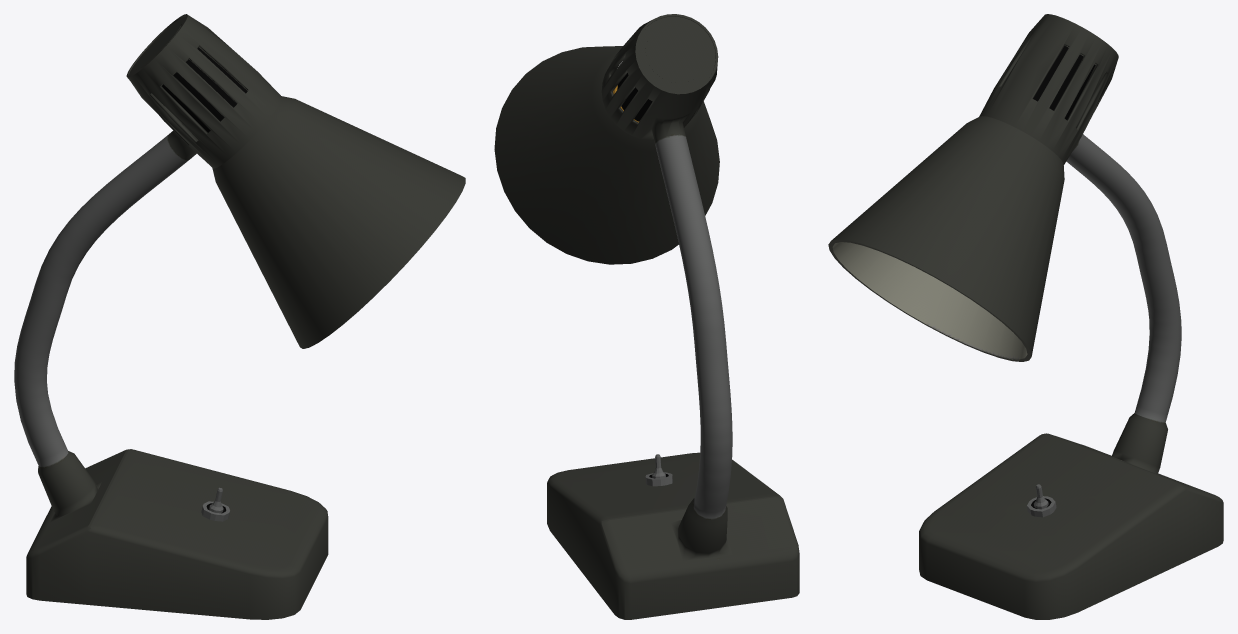
File: desk_lamp.glb
3 renders of one model, left to right at view 1: azimuth 30°, elevation 25°; view 2: azimuth 150°, elevation 25°; view 3: azimuth 270°, elevation 25°, orthographic. The views are drawn at different scales.
Parts seen in each view (by area): view 1: DeskLampMesh; view 2: DeskLampMesh; view 3: DeskLampMesh.
Part boxes in pixels (box(x1,y1,x2,y2)): DeskLampMesh: box(14, 14, 465, 619); DeskLampMesh: box(494, 14, 799, 619); DeskLampMesh: box(828, 14, 1223, 619).
Bounding box in the file's own units: 0.2336 × 0.3404 × 0.2253.
Materials: 1 (1 with a texture image).
